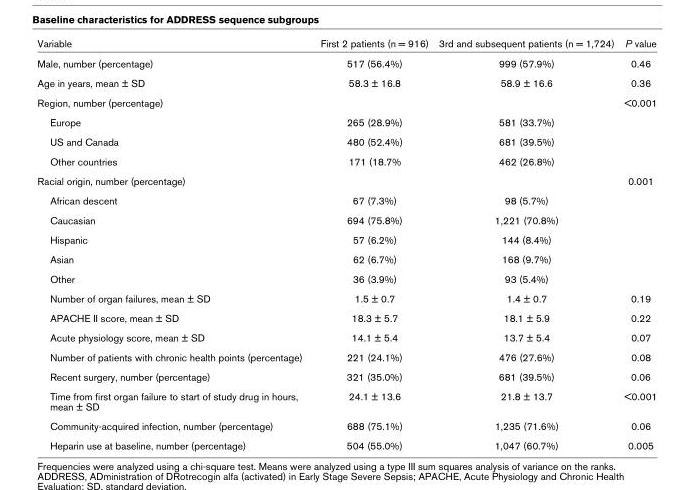table: (36, 36, 656, 451)
table column: (36, 36, 310, 451), (432, 36, 618, 451), (310, 36, 432, 451), (618, 36, 656, 451)
table column header: (36, 36, 656, 52)
table row: (36, 385, 656, 415), (36, 52, 656, 72), (36, 72, 656, 92), (36, 111, 656, 131), (36, 131, 656, 151), (36, 170, 656, 190), (36, 209, 656, 229), (36, 248, 656, 268), (36, 268, 656, 288), (36, 307, 656, 327), (36, 346, 656, 366), (36, 415, 656, 435), (36, 92, 656, 111), (36, 151, 656, 170), (36, 190, 656, 209), (36, 229, 656, 248), (36, 288, 656, 307), (36, 327, 656, 346), (36, 366, 656, 385), (36, 36, 656, 52), (36, 435, 656, 451)
